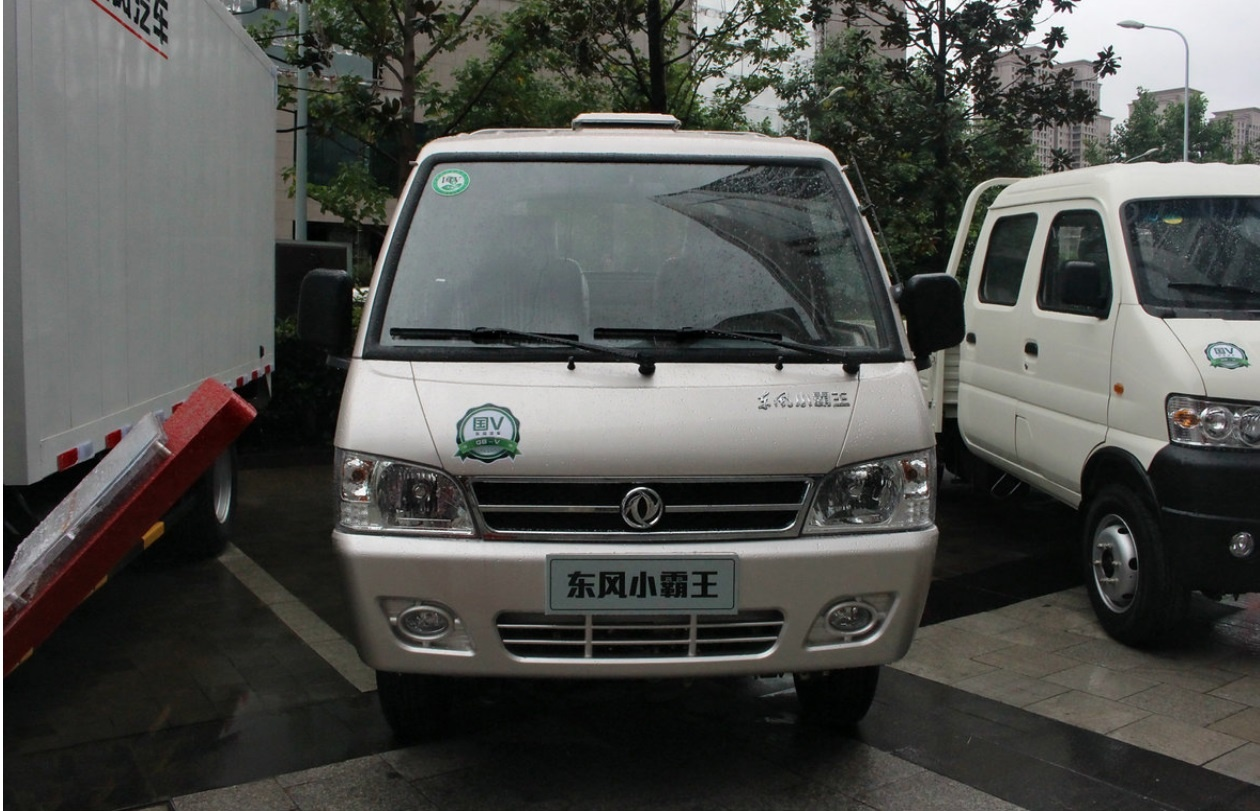truck: (298, 105, 957, 726), (912, 141, 1260, 610)
